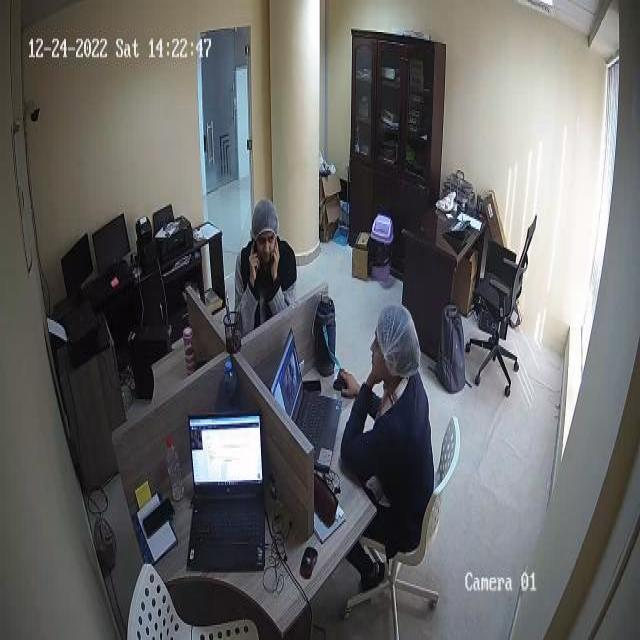hairnet: (374, 303, 416, 358), (252, 195, 278, 235)
